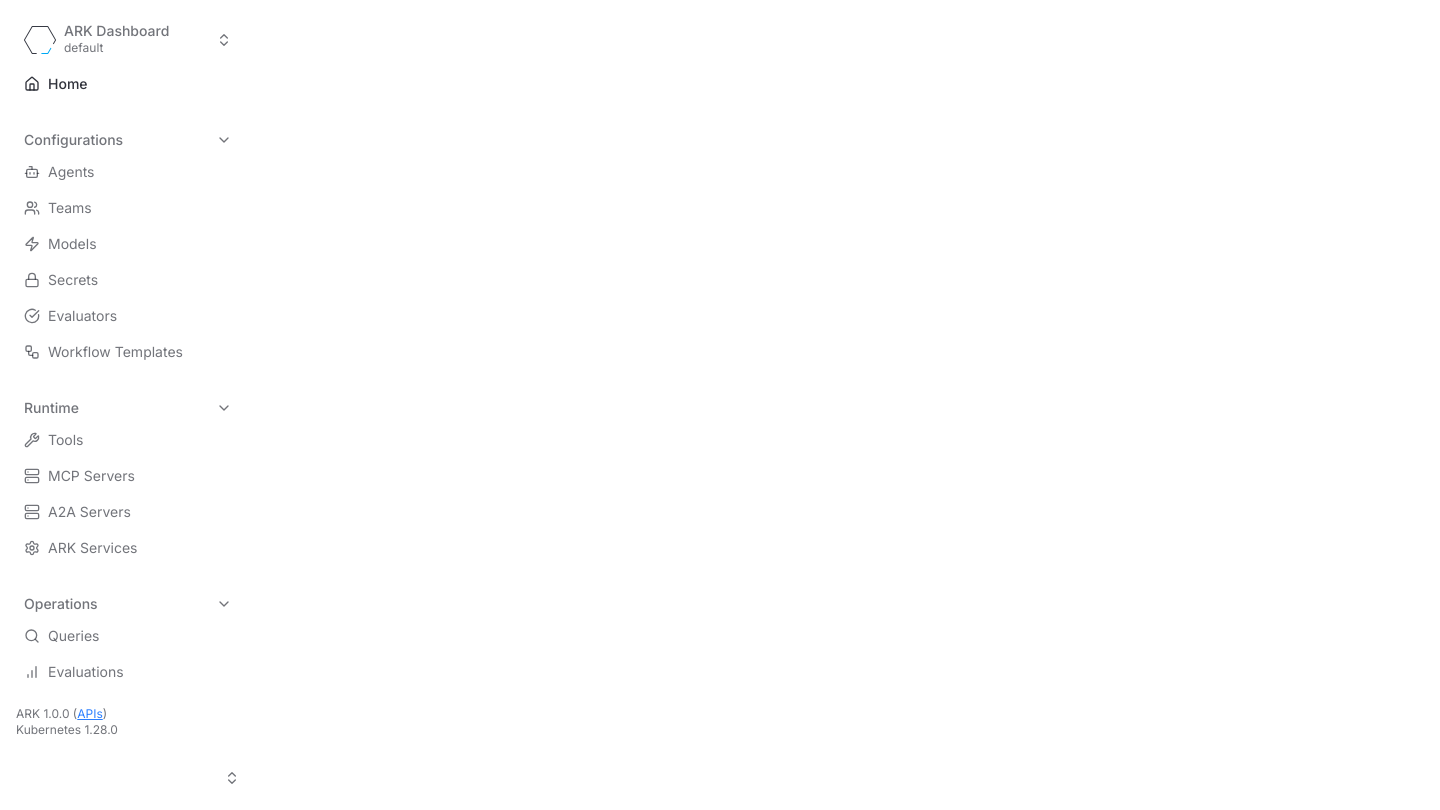
Scenario: AppSidebar - Experimental Features Menu Item › should open experimental features dialog when Experimental Features is clicked
Click the text "ARK Dashboard": x=117, y=31 [64, 24, 169, 38]
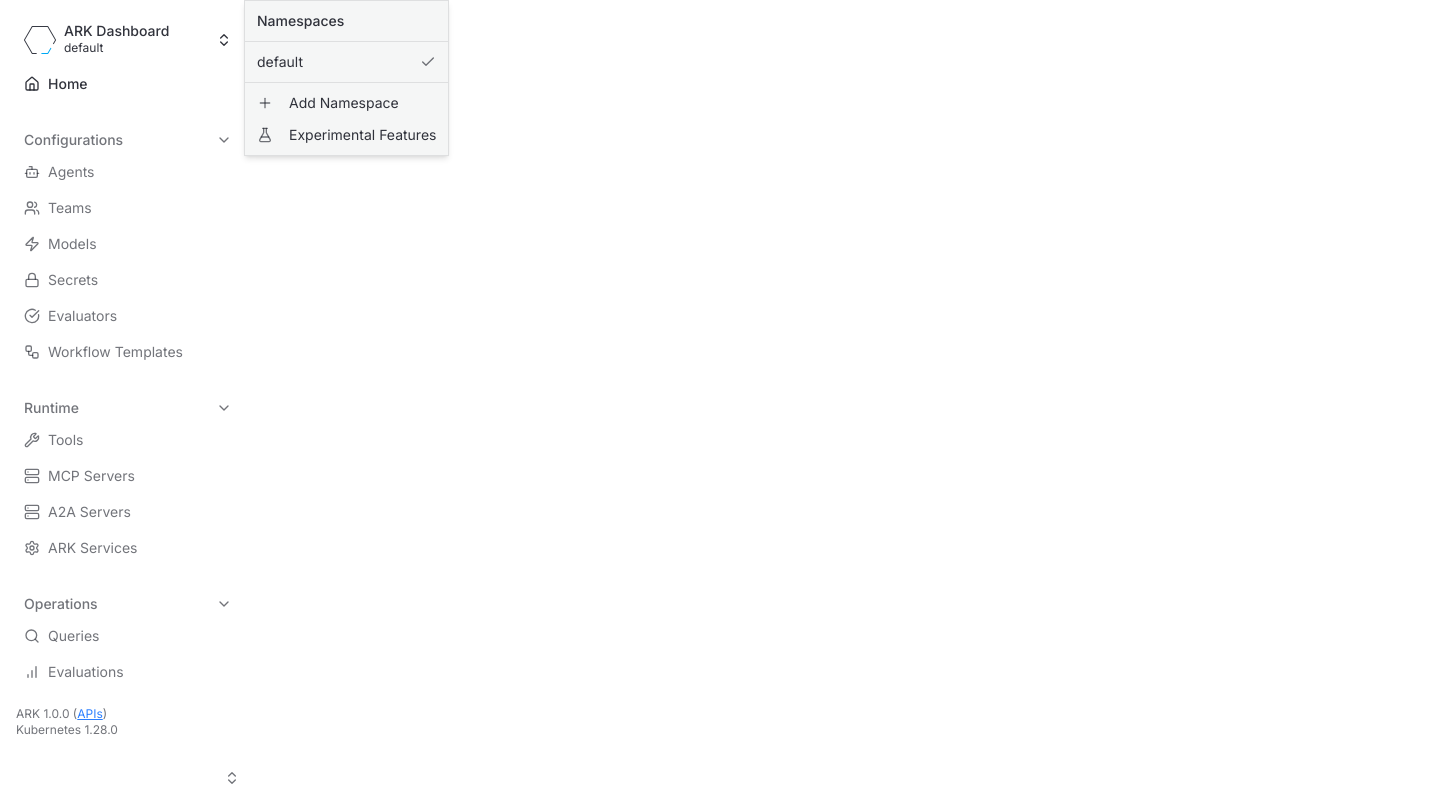
Result: the menu item "Experimental Features" is shown
Click the menu item "Experimental Features": x=347, y=134 [257, 126, 436, 143]
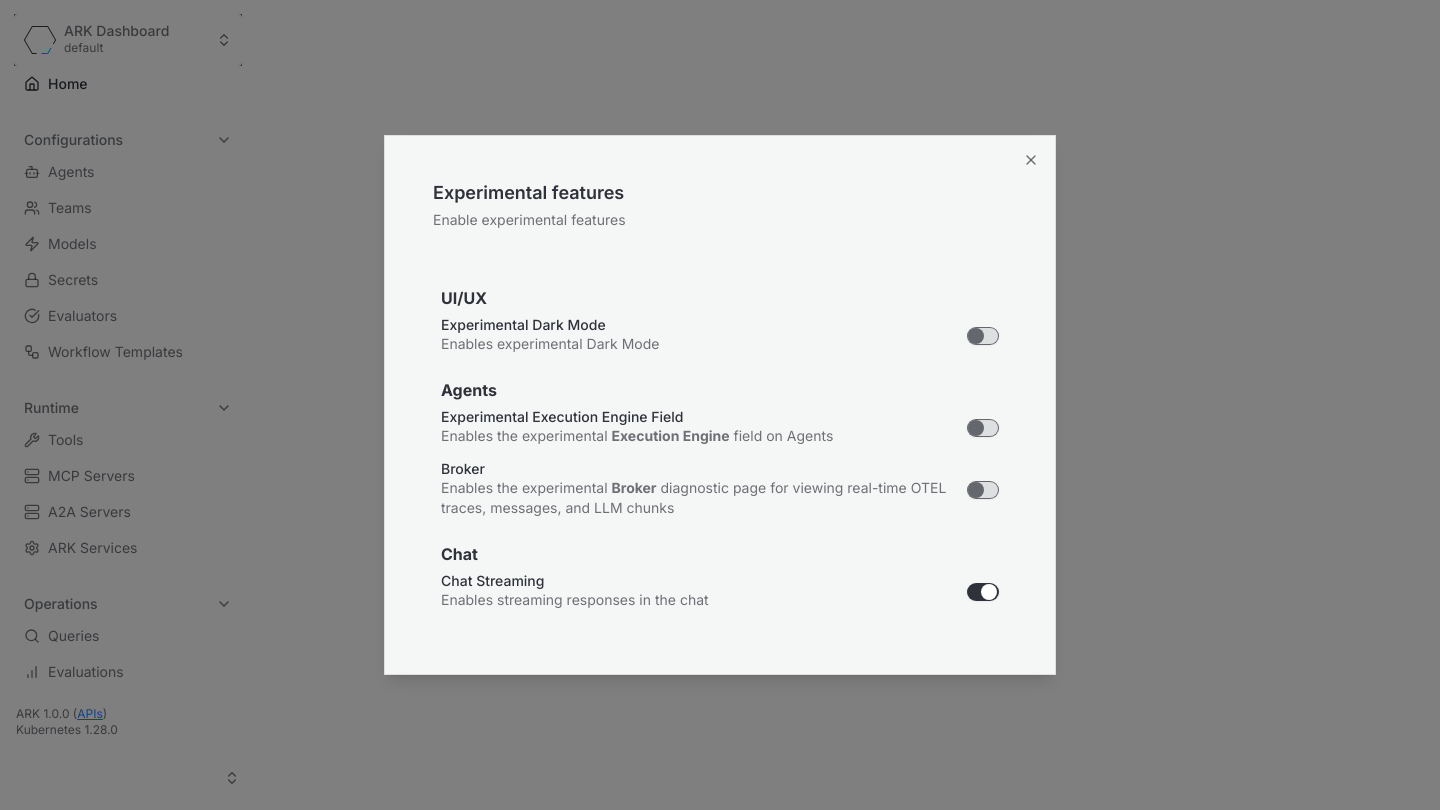
Result: the dialog is shown at [384, 135, 1056, 675]
Result: the heading "Experimental features" is shown at [433, 182, 624, 203]
